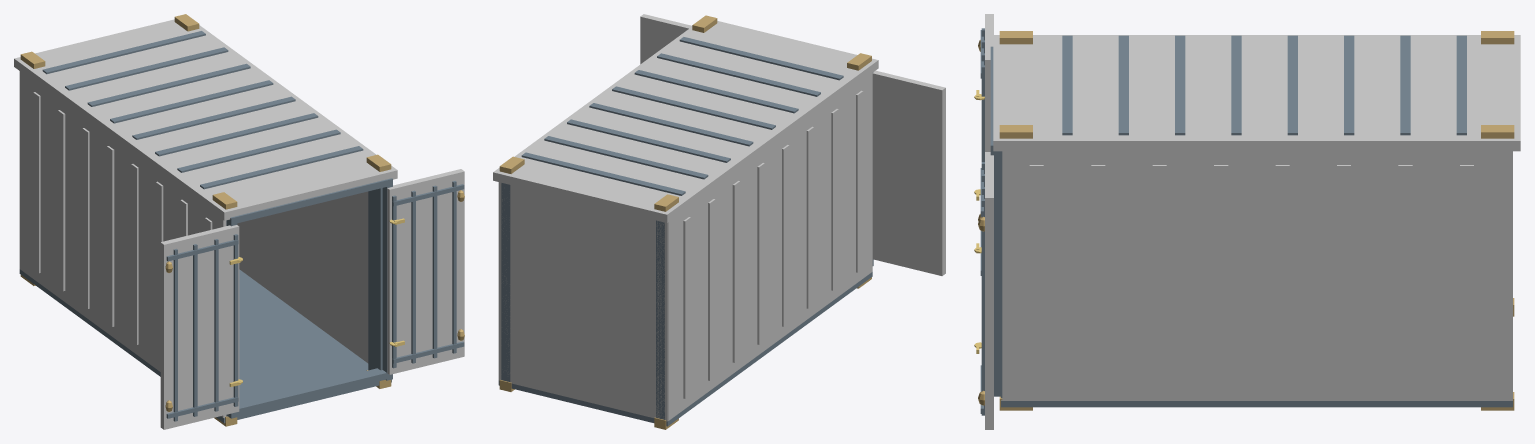
The model's file is contenedor_decoracion.glb.
3 renders of one model, left to right at view 1: azimuth 30°, elevation 25°; view 2: azimuth 150°, elevation 25°; view 3: azimuth 270°, elevation 25°, orthographic. The views are drawn at different scales.
Visible parts, largest first — view 1: contenedor_decoracion; view 2: contenedor_decoracion; view 3: contenedor_decoracion.
Boxes of the visible parts, x1,y1,x2,y2 form: contenedor_decoracion: (14,14,464,429); contenedor_decoracion: (493,14,945,429); contenedor_decoracion: (974,14,1520,429).
Size of the model in its own units: 3.4 by 2.4 by 4.27.
